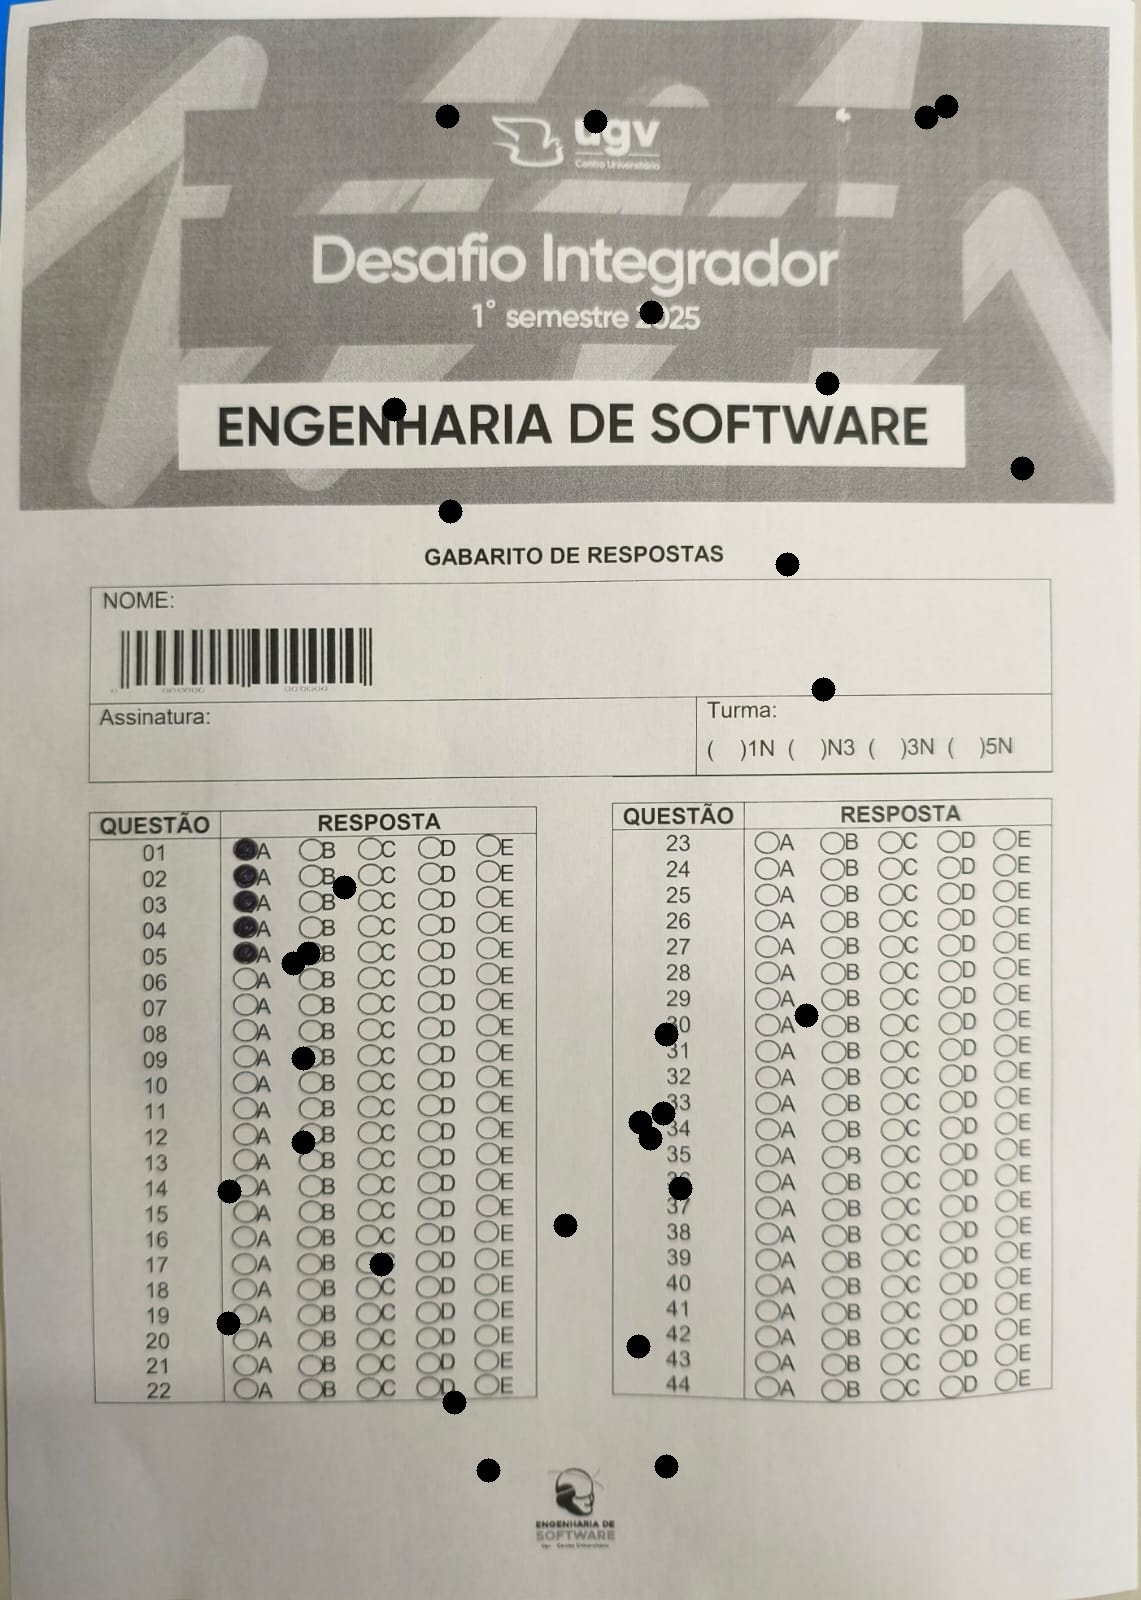bolinha: (583, 104, 608, 138), (435, 99, 459, 133), (475, 1453, 500, 1486), (651, 1096, 675, 1130), (638, 295, 663, 328), (914, 100, 938, 133), (934, 89, 958, 122), (382, 393, 406, 426), (282, 946, 305, 980), (1010, 451, 1034, 485), (291, 1041, 315, 1075), (811, 672, 835, 706), (291, 1125, 315, 1159), (296, 936, 320, 970), (438, 494, 462, 528), (629, 1105, 652, 1138), (775, 547, 799, 580), (626, 1330, 650, 1363), (638, 1121, 662, 1154), (216, 1306, 240, 1340), (553, 1209, 577, 1242), (332, 870, 356, 904), (217, 1174, 241, 1207), (369, 1247, 393, 1280), (668, 1172, 692, 1205), (654, 1449, 678, 1483), (794, 999, 817, 1032), (815, 367, 838, 400), (442, 1385, 466, 1419), (654, 1017, 678, 1051)
